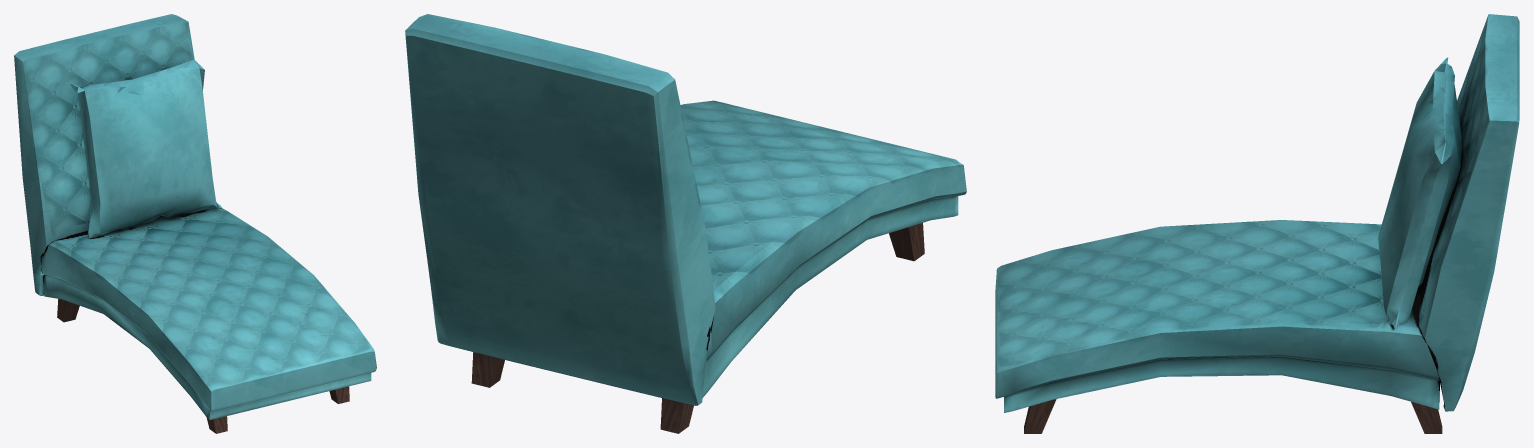
File: Vandervort Chaise Lounger.fbx
3 renders of one model, left to right at view 1: azimuth 30°, elevation 25°; view 2: azimuth 150°, elevation 25°; view 3: azimuth 270°, elevation 25°, orthographic. The views are drawn at different scales.
Visible parts, largest first — view 1: Vandervort Chaise Lounger.001; view 2: Vandervort Chaise Lounger.001; view 3: Vandervort Chaise Lounger.001.
Part boxes in pixels (x1,y1,x2,y2): Vandervort Chaise Lounger.001: (14, 14, 376, 433); Vandervort Chaise Lounger.001: (405, 14, 966, 433); Vandervort Chaise Lounger.001: (995, 14, 1519, 433).
Bounding box in the file's own units: 0.7696 × 1.08 × 1.57.
Materials: 1 (1 with a texture image).
